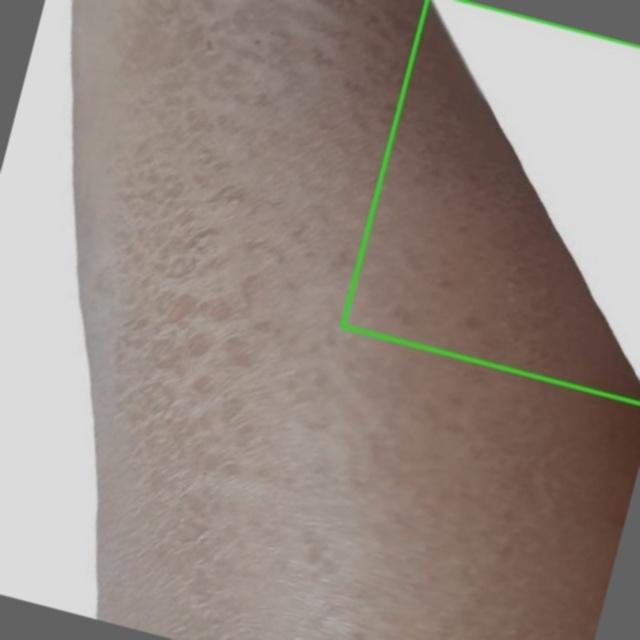Contact Dermatitis: (343, 0, 639, 403)
